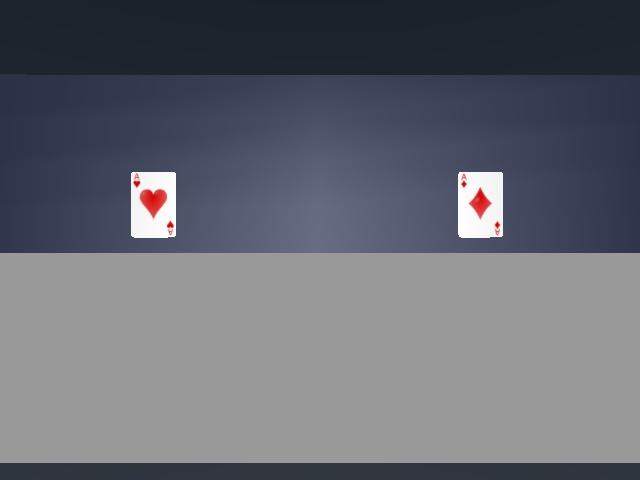diamond: (458, 172, 502, 237)
heart: (131, 172, 175, 237)
